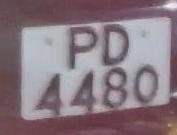0: (129, 61, 158, 109)
4: (30, 68, 69, 119), (66, 69, 101, 118)
8: (96, 66, 130, 113)
D: (98, 17, 133, 65)
P: (62, 23, 100, 73)
